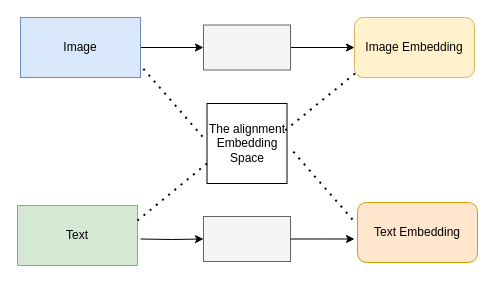
This 495x283 diagram has some shape labels left out. Here are the shapes that lost their labels. From the top down, the centre of each, then its label:
At (246,47): "Image Encoder".
At (246,239): "Text Encoder".
